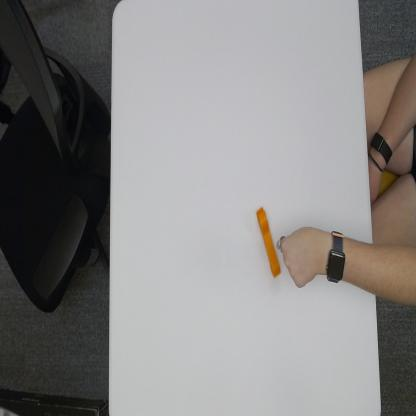Hand: (277, 222, 328, 292)
Screwdriver: (254, 205, 281, 284)
